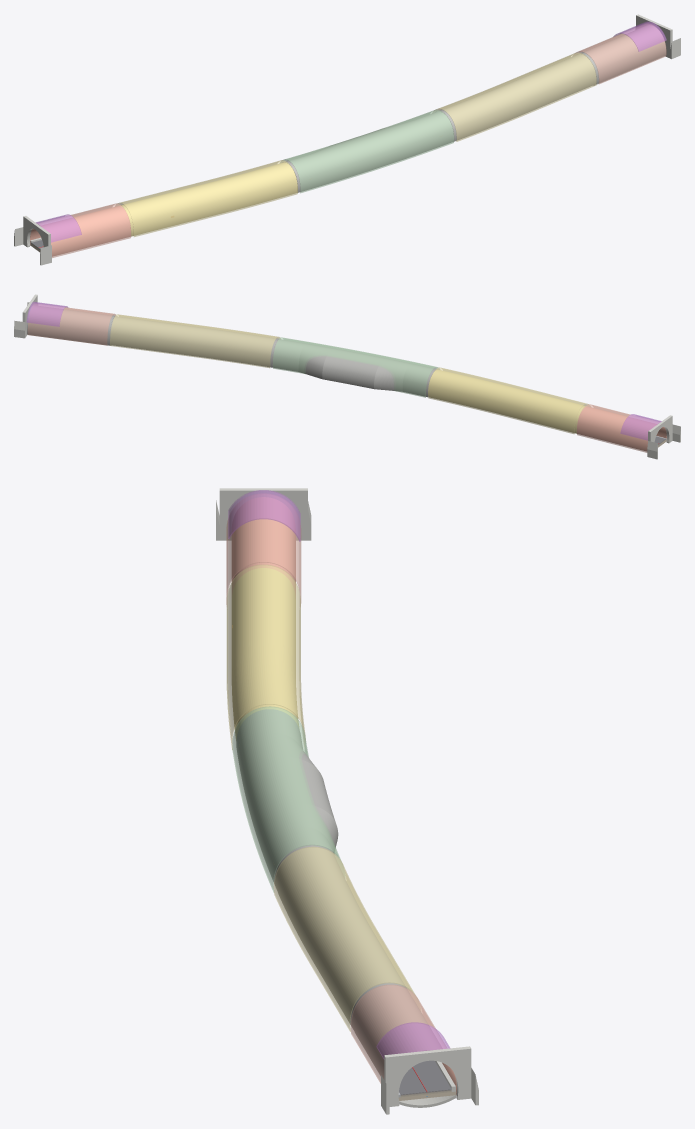
The model's file is tunnel_LOD300.glb.
The picture shows the model from 3 angles, top to bottom: view 1: azimuth 30°, elevation 25°; view 2: azimuth 150°, elevation 25°; view 3: azimuth 270°, elevation 25°; orthographic projection. The views are drawn at different scales.
Visible parts, largest first — view 1: 記号|支保パターン範囲記号 DⅡ (No.30-90), 記号|支保パターン範囲記号 DⅠ (No.90-150), 記号|支保パターン範囲記号 DⅡ (No.150-210), 吹付け|吹付けコンクリート t=10cm [DⅠ区間], 覆工|覆工コンクリート t=30cm [DⅡ区間 No.30-90], 吹付け|吹付けコンクリート t=15cm [DⅡ区間], 記号|支保パターン範囲記号 DⅢa (No.0-30), 記号|支保パターン範囲記号 DⅢa (No.210-240), 覆工|覆工コンクリート t=30cm [DⅢa区間 No.0-30], 吹付け|吹付けコンクリート t=20cm [DⅢa区間], 記号|補助工法範囲記号 フォアポーリング (No.228-240), 記号|補助工法範囲記号 フォアポーリング (No.0-12) (+2 smaller); view 2: 記号|支保パターン範囲記号 DⅡ (No.150-210), 記号|支保パターン範囲記号 DⅡ (No.30-90), 吹付け|吹付けコンクリート t=10cm [DⅠ区間], 吹付け|吹付けコンクリート t=15cm [DⅡ区間], 覆工|覆工コンクリート t=30cm [DⅡ区間 No.30-90], 記号|支保パターン範囲記号 DⅠ (No.90-150), 記号|支保パターン範囲記号 DⅢa (No.210-240), 吹付け|吹付けコンクリート t=20cm [DⅢa区間], 記号|支保パターン範囲記号 DⅢa (No.0-30), 覆工|覆工コンクリート t=30cm [DⅢa区間 No.0-30], 記号|補助工法範囲記号 フォアポーリング (No.228-240), 記号|補助工法範囲記号 フォアポーリング (No.0-12) (+1 smaller); view 3: 記号|支保パターン範囲記号 DⅡ (No.150-210), 吹付け|吹付けコンクリート t=10cm [DⅠ区間], 記号|支保パターン範囲記号 DⅡ (No.30-90), 記号|支保パターン範囲記号 DⅠ (No.90-150), 吹付け|吹付けコンクリート t=15cm [DⅡ区間], 覆工|覆工コンクリート t=30cm [DⅡ区間 No.30-90], 記号|支保パターン範囲記号 DⅢa (No.0-30), 記号|支保パターン範囲記号 DⅢa (No.210-240), 覆工|覆工コンクリート t=30cm [DⅢa区間 No.0-30], 吹付け|吹付けコンクリート t=20cm [DⅢa区間], 坑門工|坑門工 面壁 (終点側), 坑門工|坑門工 面壁 (起点側) (+3 smaller).
Part boxes in pixels (box(x1,y1,x2,y2)): 記号|支保パターン範囲記号 DⅡ (No.30-90): box(115, 160, 297, 236); 記号|支保パターン範囲記号 DⅠ (No.90-150): box(280, 109, 454, 193); 記号|支保パターン範囲記号 DⅡ (No.150-210): box(433, 52, 596, 141); 吹付け|吹付けコンクリート t=10cm [DⅠ区間]: box(283, 112, 453, 192); 覆工|覆工コンクリート t=30cm [DⅡ区間 No.30-90]: box(120, 162, 297, 236); 吹付け|吹付けコンクリート t=15cm [DⅡ区間]: box(438, 54, 595, 141); 記号|支保パターン範囲記号 DⅢa (No.0-30): box(38, 203, 131, 257); 記号|支保パターン範囲記号 DⅢa (No.210-240): box(573, 23, 666, 84); 覆工|覆工コンクリート t=30cm [DⅢa区間 No.0-30]: box(30, 206, 130, 256); 吹付け|吹付けコンクリート t=20cm [DⅢa区間]: box(579, 25, 665, 83); 記号|補助工法範囲記号 フォアポーリング (No.228-240): box(613, 21, 666, 51); 記号|補助工法範囲記号 フォアポーリング (No.0-12): box(36, 214, 81, 242); 記号|支保パターン範囲記号 DⅡ (No.150-210): box(110, 314, 280, 368); 記号|支保パターン範囲記号 DⅡ (No.30-90): box(428, 367, 590, 433); 吹付け|吹付けコンクリート t=10cm [DⅠ区間]: box(272, 339, 437, 397); 吹付け|吹付けコンクリート t=15cm [DⅡ区間]: box(109, 316, 278, 367); 覆工|覆工コンクリート t=30cm [DⅡ区間 No.30-90]: box(428, 370, 586, 433); 記号|支保パターン範囲記号 DⅠ (No.90-150): box(272, 337, 439, 397); 記号|支保パターン範囲記号 DⅢa (No.210-240): box(27, 303, 115, 345); 吹付け|吹付けコンクリート t=20cm [DⅢa区間]: box(27, 306, 114, 344); 記号|支保パターン範囲記号 DⅢa (No.0-30): box(576, 404, 659, 452); 覆工|覆工コンクリート t=30cm [DⅢa区間 No.0-30]: box(577, 407, 666, 451); 記号|補助工法範囲記号 フォアポーリング (No.228-240): box(26, 302, 68, 326); 記号|補助工法範囲記号 フォアポーリング (No.0-12): box(620, 414, 661, 440); 記号|支保パターン範囲記号 DⅡ (No.150-210): box(273, 846, 421, 1031); 吹付け|吹付けコンクリート t=10cm [DⅠ区間]: box(236, 709, 338, 890); 記号|支保パターン範囲記号 DⅡ (No.30-90): box(226, 564, 305, 749); 記号|支保パターン範囲記号 DⅠ (No.90-150): box(232, 706, 345, 892); 吹付け|吹付けコンクリート t=15cm [DⅡ区間]: box(277, 850, 410, 1030); 覆工|覆工コンクリート t=30cm [DⅡ区間 No.30-90]: box(232, 568, 298, 739); 記号|支保パターン範囲記号 DⅢa (No.0-30): box(226, 493, 301, 605); 記号|支保パターン範囲記号 DⅢa (No.210-240): box(350, 984, 446, 1083); 覆工|覆工コンクリート t=30cm [DⅢa区間 No.0-30]: box(231, 497, 295, 595); 吹付け|吹付けコンクリート t=20cm [DⅢa区間]: box(354, 987, 441, 1078); 坑門工|坑門工 面壁 (終点側): box(384, 1046, 471, 1106); 坑門工|坑門工 面壁 (起点側): box(219, 488, 307, 540).
Size of the model in its own units: 247 by 12.24 by 45.98.
